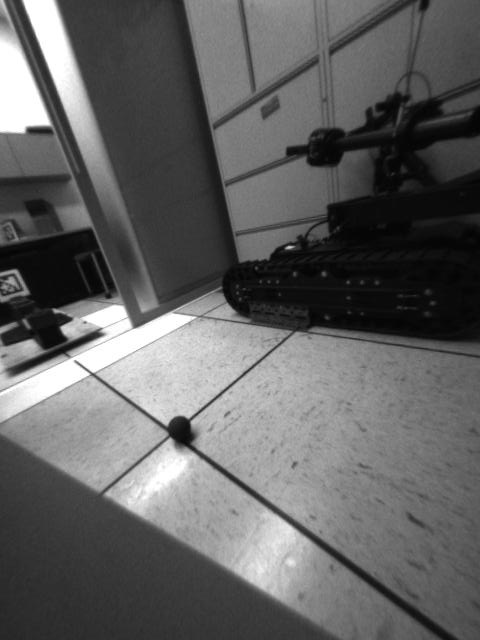dogtoy: (161, 408, 203, 450)
